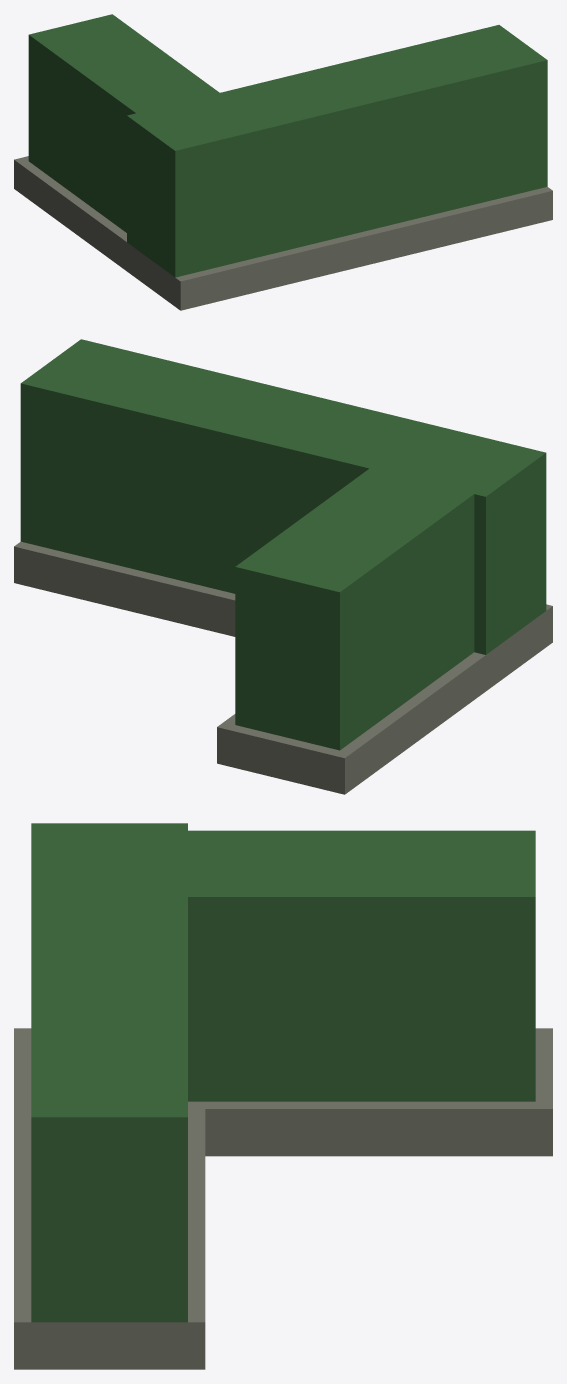
File: Backyard_HedgeCorner_Simple.glb
3 views of the same model, one above another, from view 1: azimuth 30°, elevation 25°; view 2: azimuth 150°, elevation 25°; view 3: azimuth 270°, elevation 25° (orthographic). The views are drawn at different scales.
Parts seen in each view (by area): view 1: Backyard_HedgeCorner_Simple; view 2: Backyard_HedgeCorner_Simple; view 3: Backyard_HedgeCorner_Simple.
Boxes of the visible parts, <box> form: Backyard_HedgeCorner_Simple: <box>14,14,552,310</box>; Backyard_HedgeCorner_Simple: <box>14,339,552,794</box>; Backyard_HedgeCorner_Simple: <box>14,823,552,1369</box>.
Bounding box in the file's own units: 4 × 1.6 × 3.1.
